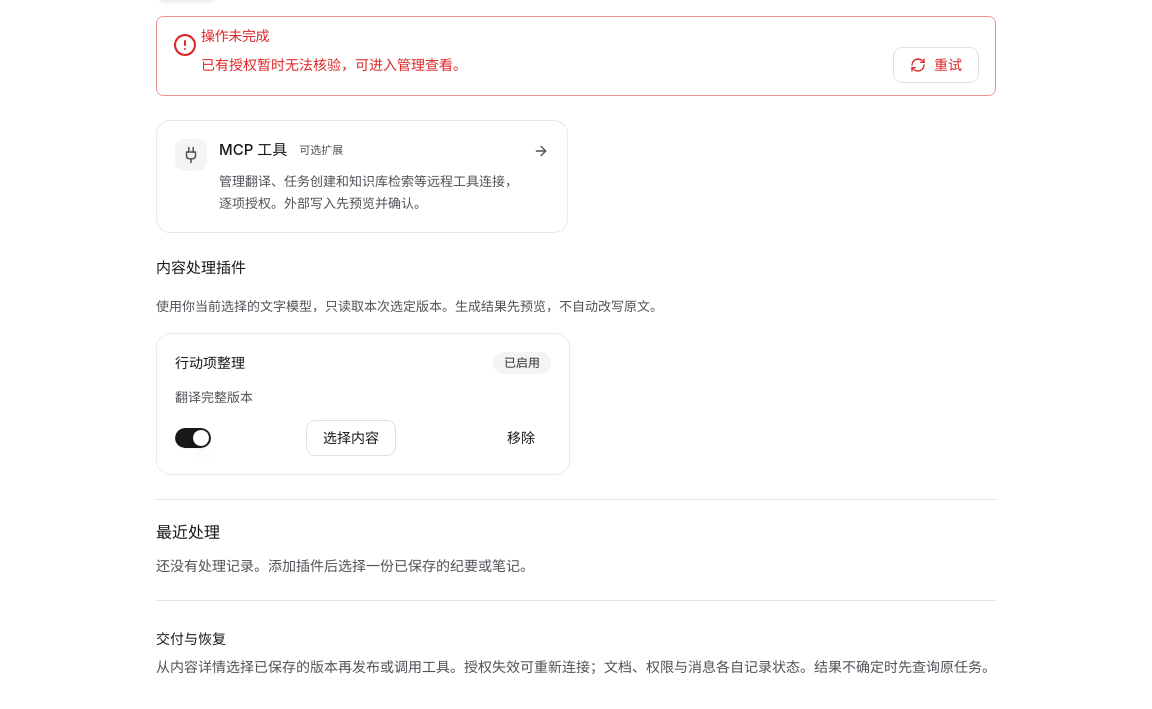
Test: does not POST when durable storage fails
The image size is (1152, 709).
(page scrolled)
Step 1. Click the button "选择内容" → coordinates (351, 438), box [306, 420, 396, 456]
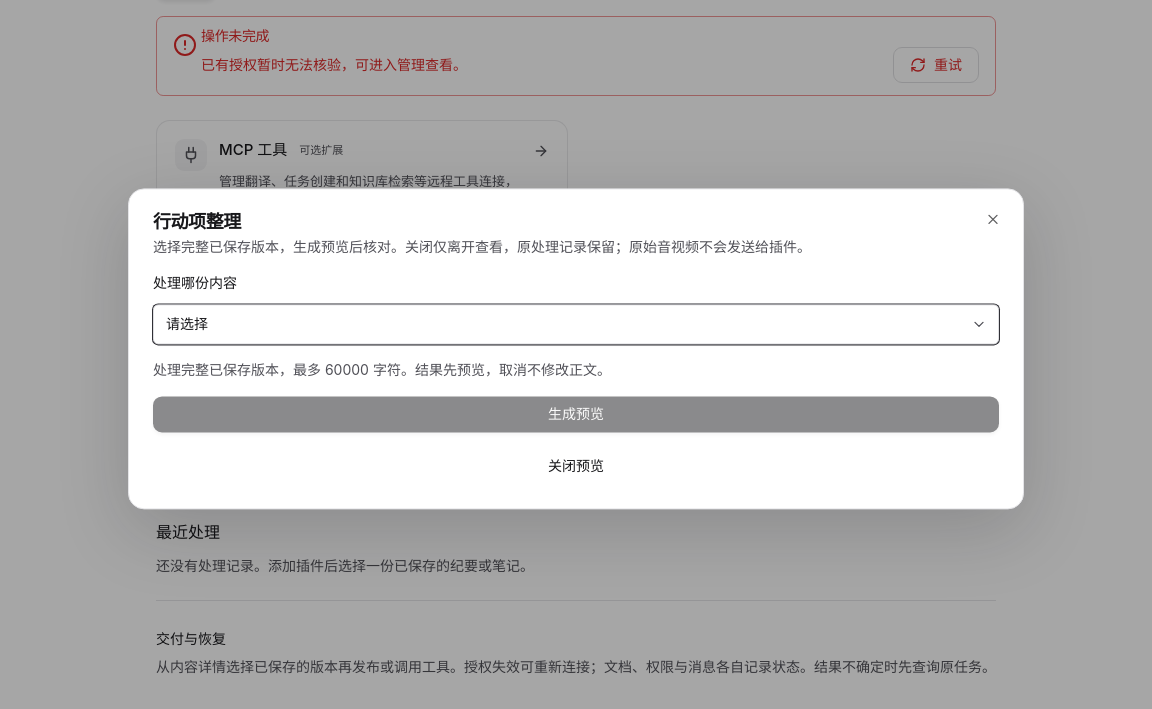
Step 2. Select "原始笔记" in the dropdown labelled "处理哪份内容" → coordinates (576, 325), box [153, 305, 999, 345]
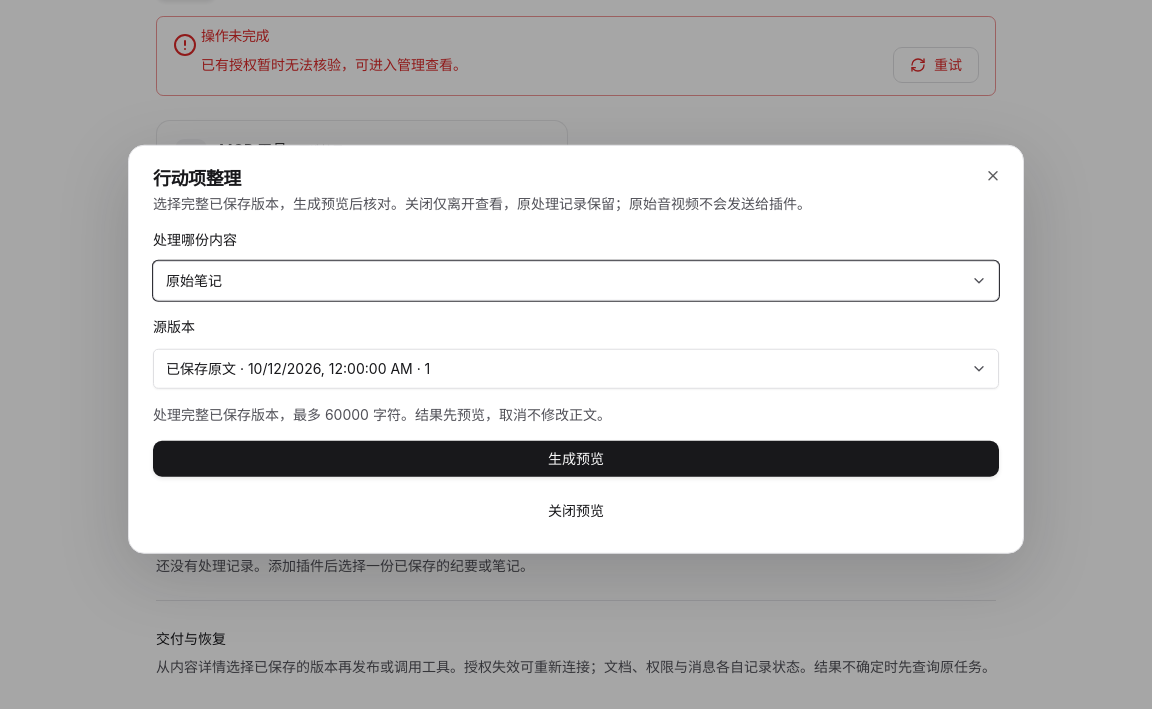
Expected: the button "生成预览" is enabled
Step 3. Click the button "生成预览" → coordinates (576, 458), box [153, 440, 999, 476]
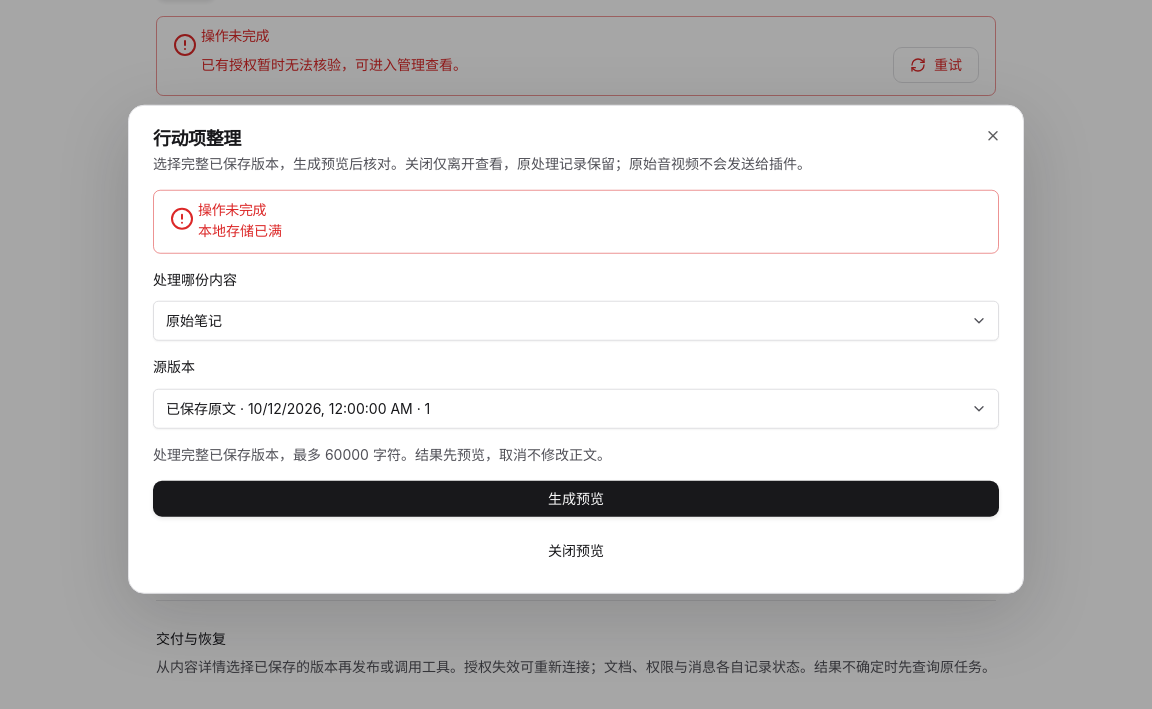
Expected: the text "本地存储已满" is shown, [198, 221, 282, 241]
